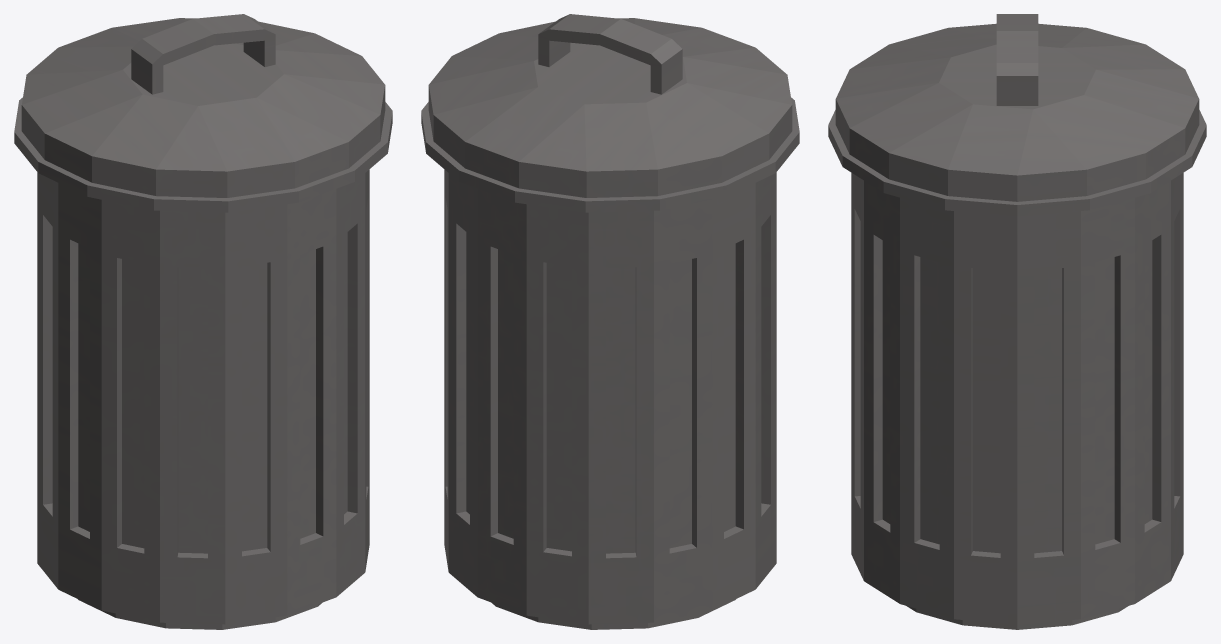
File: trashcan.fbx
3 views of the same model, side by side, from view 1: azimuth 30°, elevation 25°; view 2: azimuth 150°, elevation 25°; view 3: azimuth 270°, elevation 25° (orthographic).
Visible parts, largest first — view 1: trashcan.001; view 2: trashcan.001; view 3: trashcan.001.
Part boxes in pixels (x1=…): trashcan.001: x1=14, y1=14, x2=392, y2=629; trashcan.001: x1=421, y1=14, x2=799, y2=629; trashcan.001: x1=828, y1=14, x2=1206, y2=629.
Size of the model in its own units: 124 by 195 by 124.
